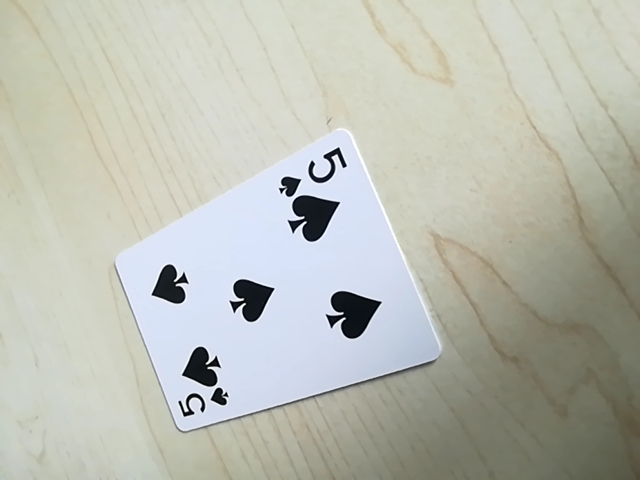ht 5: (280, 142, 349, 193), (167, 387, 232, 427)
